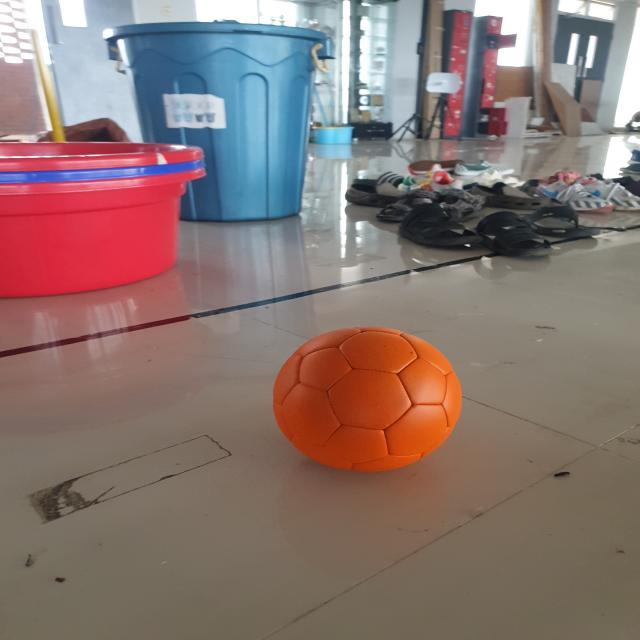bola: (248, 316, 488, 494)
